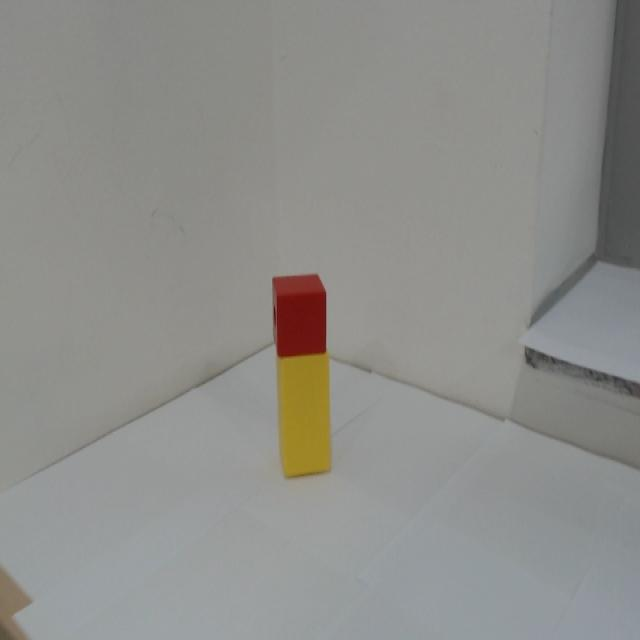cube: (267, 267, 339, 361)
